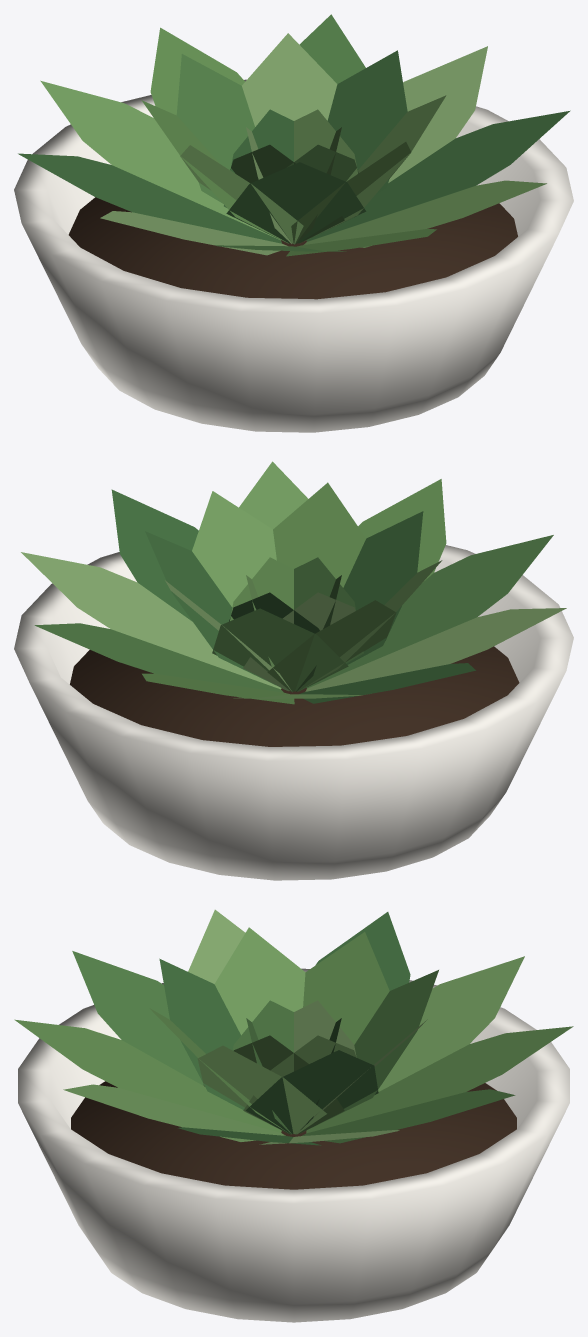
The model's file is i_plant_12.glb.
The picture shows the model from 3 angles, top to bottom: view 1: azimuth 30°, elevation 25°; view 2: azimuth 150°, elevation 25°; view 3: azimuth 270°, elevation 25°; orthographic projection.
Parts seen in each view (by area): view 1: o, o.001, o.017, o.021, o.022, o.010, o.012, o.015, o.011, o.018, o.016, o.020 (+11 smaller); view 2: o, o.001, o.024, o.018, o.023, o.009, o.008, o.012, o.015, o.019, o.017, o.010 (+11 smaller); view 3: o, o.001, o.025, o.020, o.021, o.024, o.014, o.013, o.010, o.015, o.012, o.009 (+11 smaller).
Part boxes in pixels (x1=…): o: x1=14, y1=79, x2=573, y2=432; o.001: x1=68, y1=197, x2=517, y2=299; o.017: x1=306, y1=110, x2=570, y2=241; o.021: x1=40, y1=80, x2=280, y2=240; o.022: x1=18, y1=153, x2=281, y2=243; o.010: x1=327, y1=50, x2=407, y2=194; o.012: x1=176, y1=54, x2=254, y2=203; o.015: x1=226, y1=162, x2=366, y2=243; o.011: x1=242, y1=33, x2=337, y2=126; o.018: x1=388, y1=46, x2=487, y2=182; o.016: x1=304, y1=180, x2=546, y2=247; o.020: x1=150, y1=27, x2=244, y2=115; o: x1=14, y1=545, x2=573, y2=880; o.001: x1=70, y1=646, x2=519, y2=746; o.024: x1=306, y1=535, x2=553, y2=688; o.018: x1=21, y1=552, x2=281, y2=689; o.023: x1=305, y1=608, x2=566, y2=691; o.009: x1=192, y1=491, x2=276, y2=606; o.008: x1=273, y1=482, x2=366, y2=587; o.012: x1=212, y1=608, x2=348, y2=691; o.015: x1=343, y1=511, x2=423, y2=664; o.019: x1=34, y1=623, x2=283, y2=692; o.017: x1=111, y1=489, x2=198, y2=621; o.010: x1=145, y1=531, x2=286, y2=690; o: x1=18, y1=968, x2=569, y2=1322; o.001: x1=71, y1=1081, x2=516, y2=1189; o.025: x1=14, y1=1019, x2=281, y2=1132; o.020: x1=306, y1=1026, x2=573, y2=1133; o.021: x1=378, y1=956, x2=524, y2=1091; o.024: x1=72, y1=951, x2=203, y2=1085; o.014: x1=214, y1=927, x2=305, y2=1035; o.013: x1=303, y1=932, x2=389, y2=1044; o.010: x1=245, y1=1050, x2=378, y2=1134; o.015: x1=159, y1=958, x2=244, y2=1109; o.012: x1=302, y1=970, x2=438, y2=1132; o.009: x1=197, y1=1045, x2=326, y2=1134.
Bounding box in the file's own units: 0.2 × 0.0985 × 0.2007.
